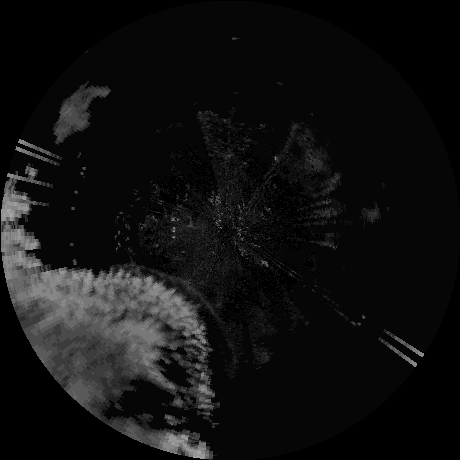frontgust: (152, 269, 231, 343)
